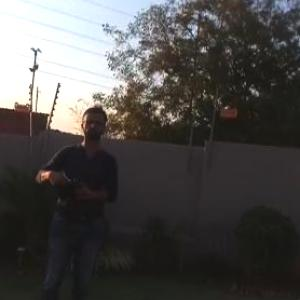follow: (31, 99, 121, 299)
